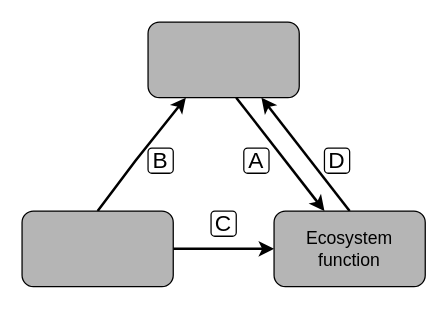
Some shapes in this 447 by 309 pixel diagram are drawn without their labels. Here are the shapes that lost their labels. From the top down, the box of each, then its label:
(147, 21, 299, 98): Biodiversity
(21, 210, 173, 287): Environment
